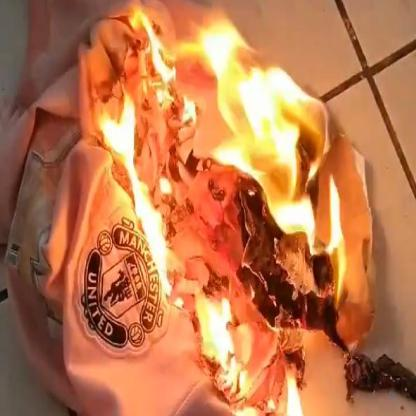fire: (96, 2, 352, 416)
